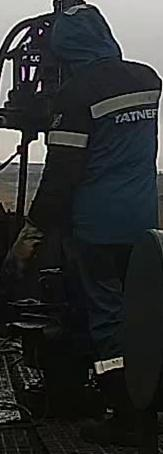gloves: (2, 220, 46, 276)
vest: (30, 57, 162, 243)
